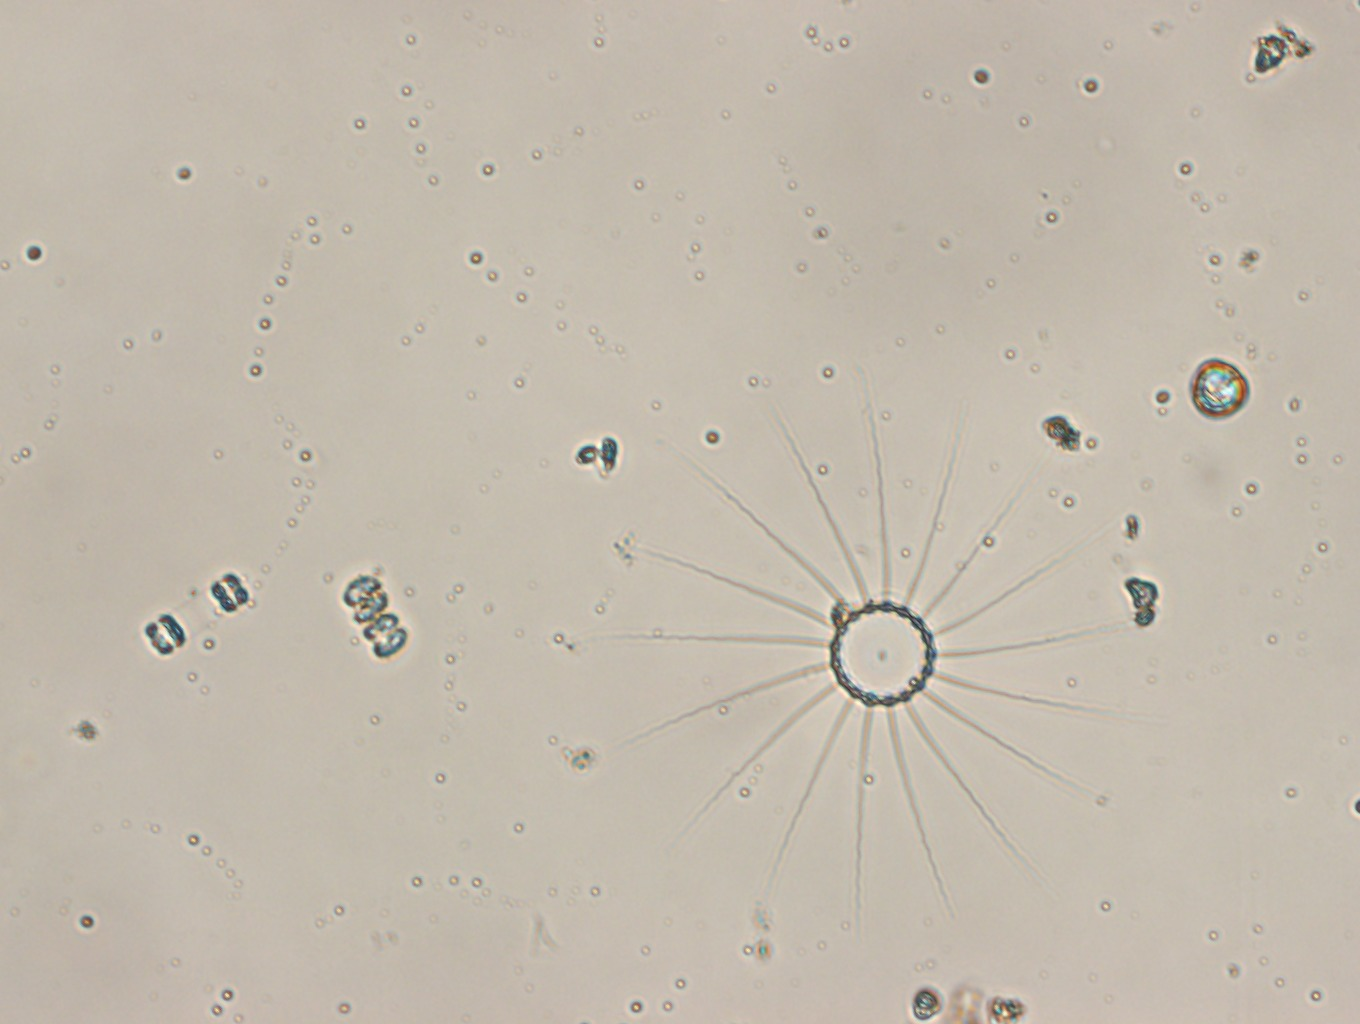bacteriastrum: (615, 388, 1140, 908)
skeletonema: (141, 569, 250, 658), (340, 574, 410, 662)
